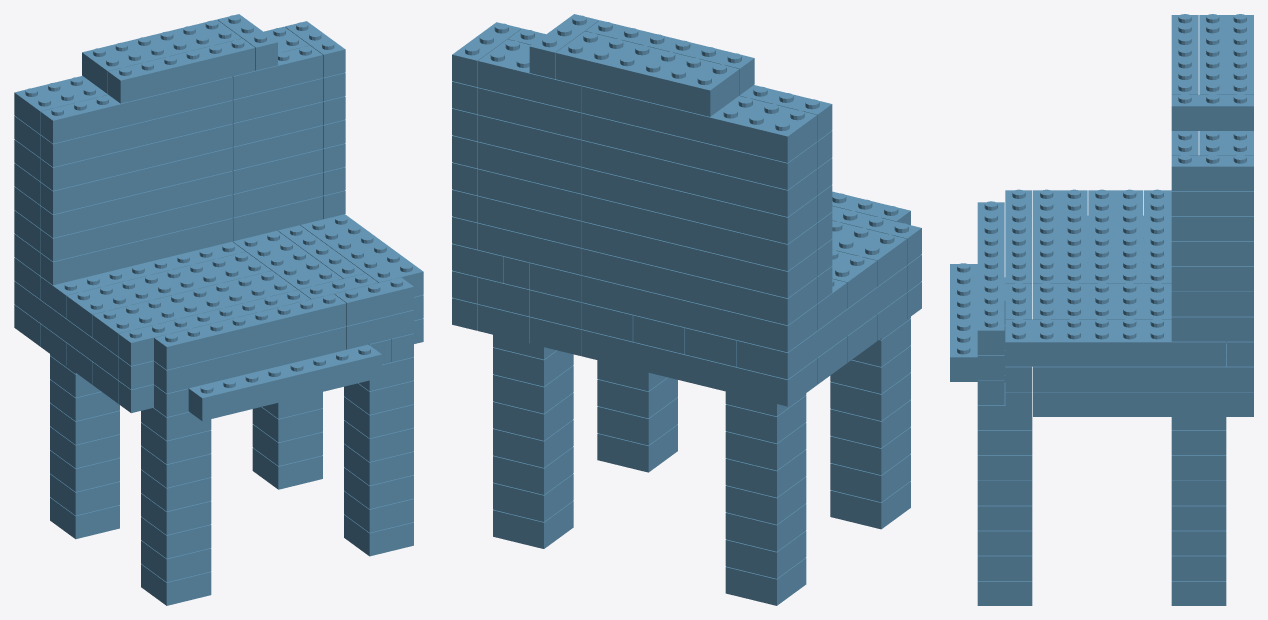
Rendered from 155_chair_L5.glb.
The picture shows the model from 3 angles, left to right: view 1: azimuth 30°, elevation 25°; view 2: azimuth 150°, elevation 25°; view 3: azimuth 270°, elevation 25°; orthographic projection. The views are drawn at different scales.
Size of the model in its own units: 12.98 by 19.13 by 10.98.
